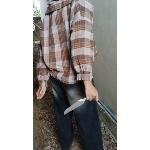Pisau: (61, 92, 93, 118)
